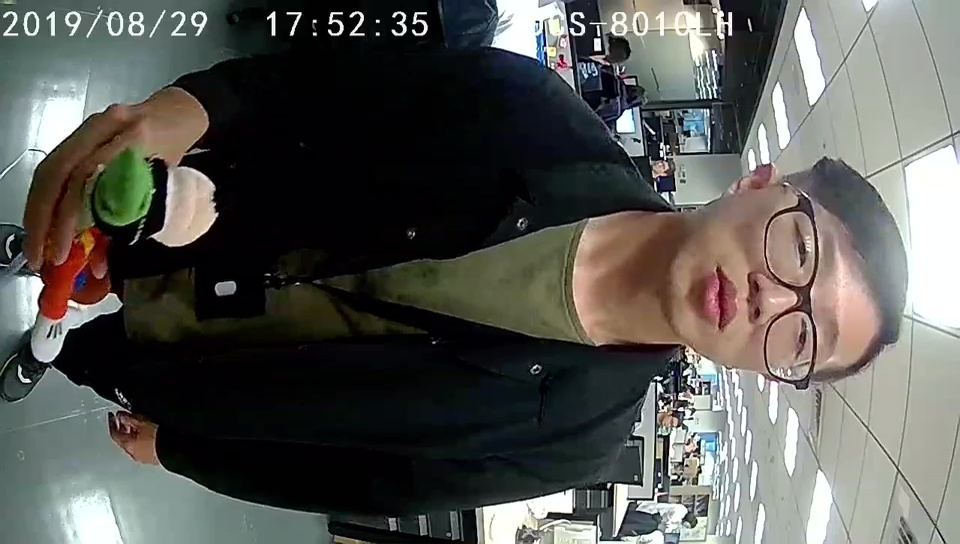goofy: (30, 146, 219, 364)
